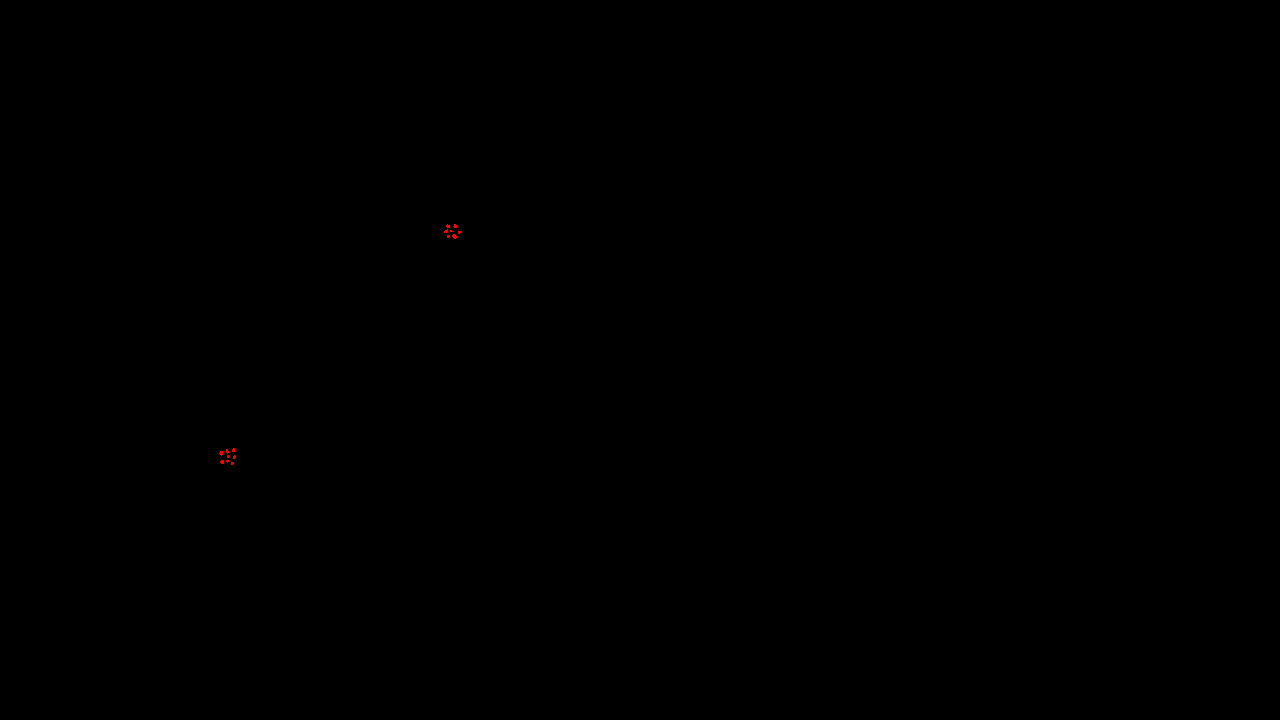Target: (452, 234, 457, 239), (219, 451, 223, 456), (446, 224, 450, 228), (453, 224, 457, 228), (444, 229, 448, 233), (220, 460, 224, 464), (226, 449, 229, 454), (232, 448, 235, 452), (233, 455, 236, 459), (458, 231, 461, 234), (447, 235, 450, 238), (227, 455, 230, 458), (226, 460, 229, 463), (231, 462, 234, 465), (450, 230, 453, 232)
